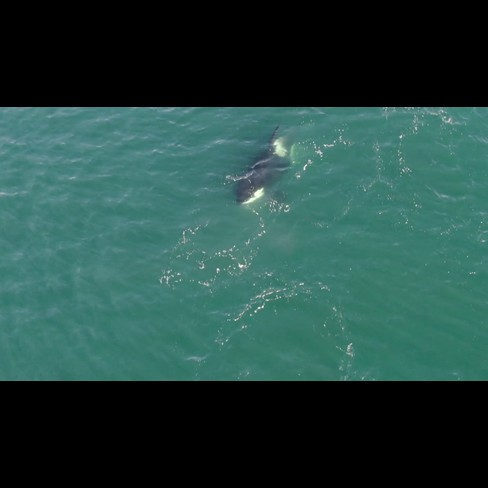orca: (217, 123, 323, 214)
